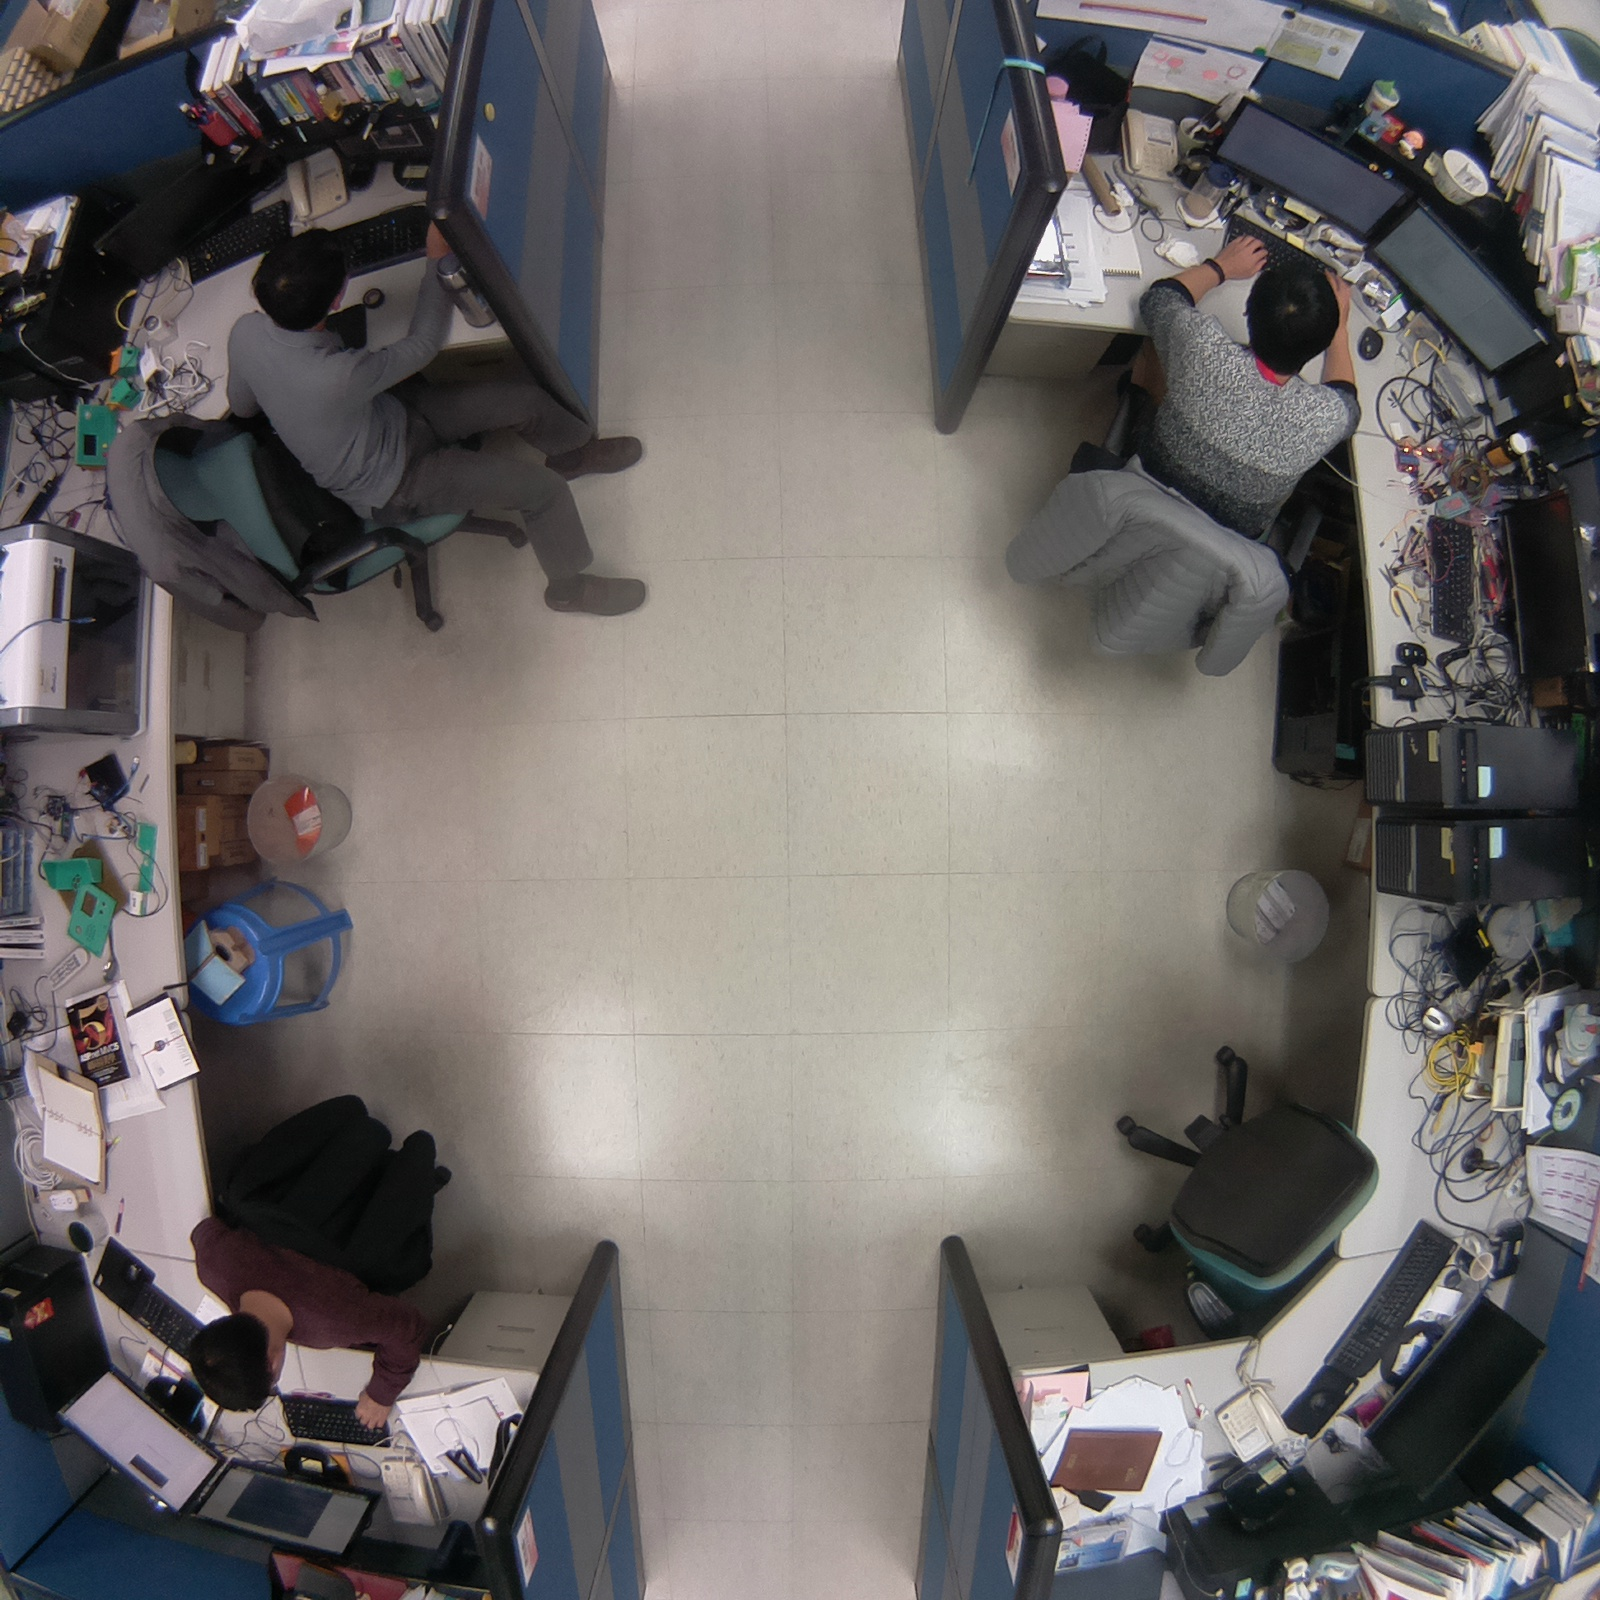chair: (1092, 1027, 1392, 1351)
sitting: (89, 207, 703, 649), (982, 211, 1371, 697), (170, 1078, 466, 1455)
